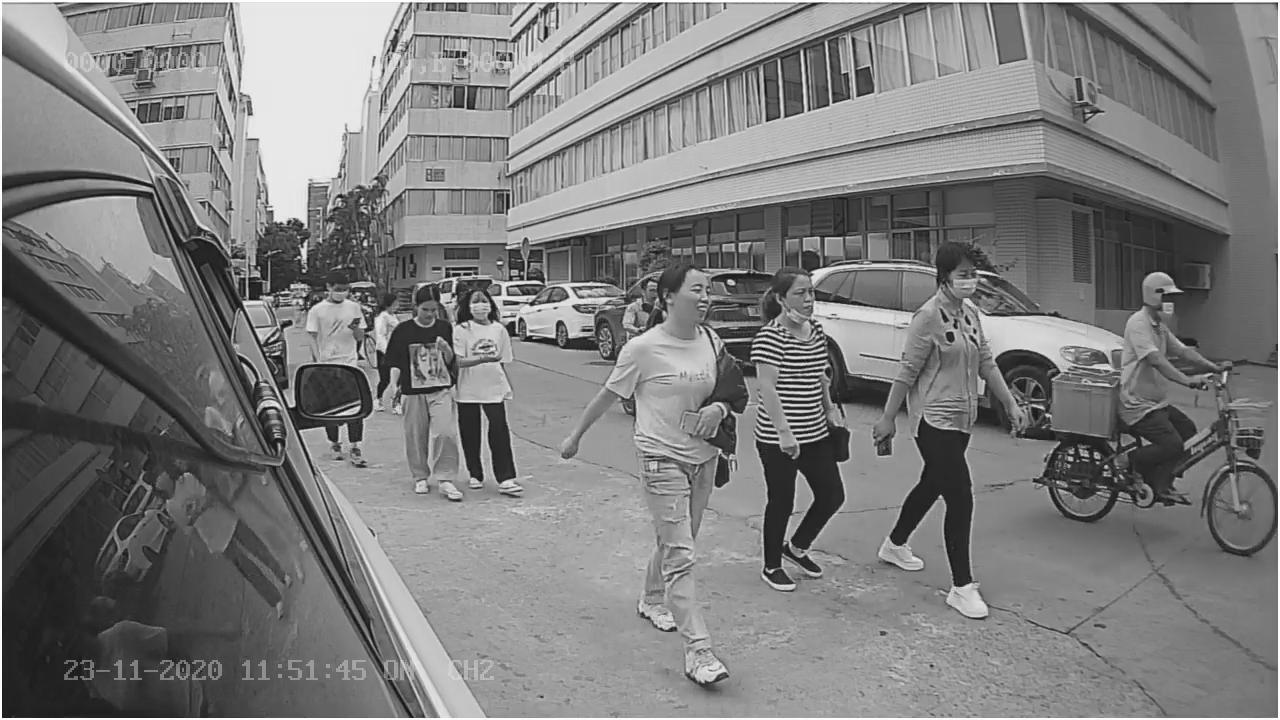person: (561, 258, 748, 684), (874, 231, 1030, 622), (381, 281, 463, 499), (1120, 264, 1229, 387)
